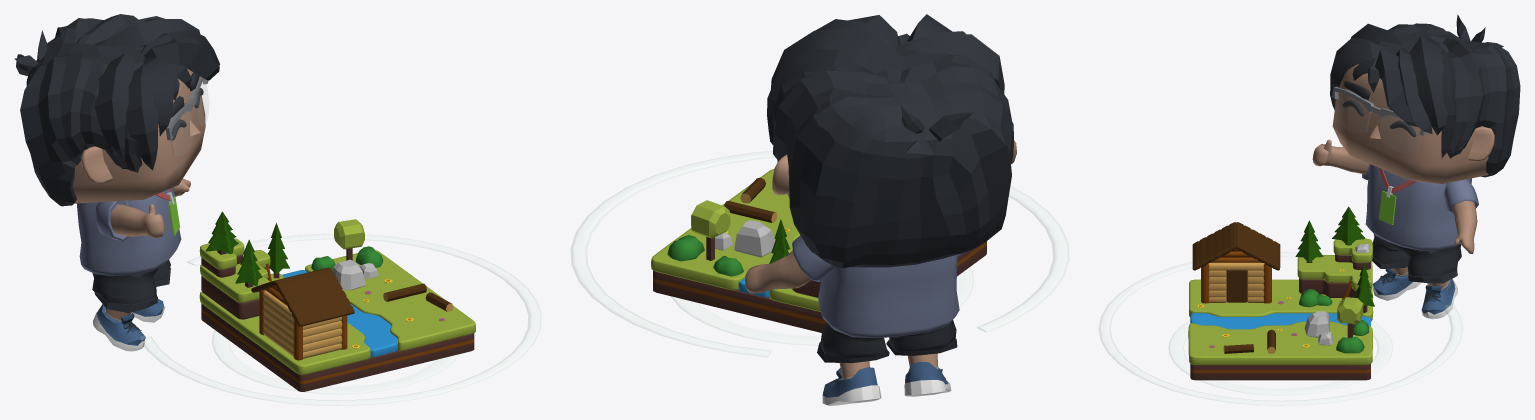
File: isometric_land.gltf
3 views of the same model, side by side, from view 1: azimuth 30°, elevation 25°; view 2: azimuth 150°, elevation 25°; view 3: azimuth 270°, elevation 25° (orthographic). The views are drawn at different scales.
Parts seen in each view (by area): view 1: about_model; view 2: about_model; view 3: about_model.
Boxes of the visible parts, x1,y1,x2,y2 form: about_model: (14,14,541,405); about_model: (571,14,1068,405); about_model: (1099,14,1520,405).
Bounding box in the file's own units: 235 × 166 × 234.
